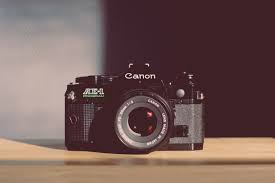camera: (65, 63, 203, 152)
